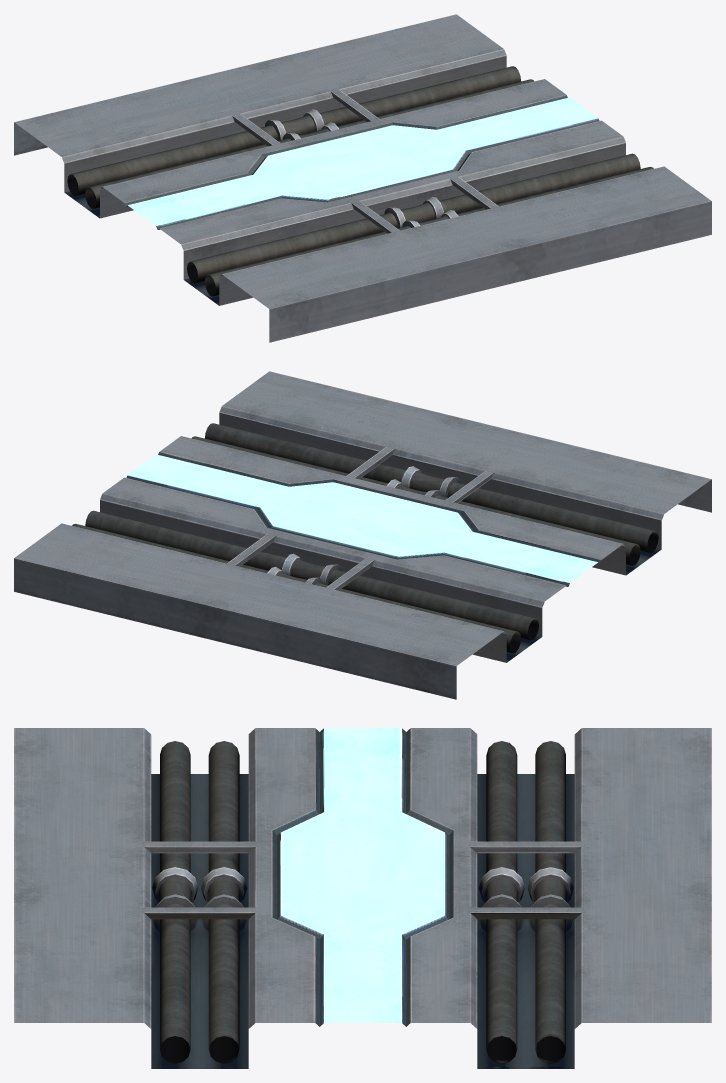
Rendered from DS_SM0005_Scifi_Room_FloorBase_04.fbx.
The picture shows the model from 3 angles, top to bottom: view 1: azimuth 30°, elevation 25°; view 2: azimuth 150°, elevation 25°; view 3: azimuth 270°, elevation 25°; orthographic projection. The views are drawn at different scales.
Parts seen in each view (by area): view 1: DS_SM0005_Scifi_Room_FloorBase_04_LP; view 2: DS_SM0005_Scifi_Room_FloorBase_04_LP; view 3: DS_SM0005_Scifi_Room_FloorBase_04_LP.
Part boxes in pixels (box(x1,y1,x2,y2)): DS_SM0005_Scifi_Room_FloorBase_04_LP: box(14, 14, 711, 342); DS_SM0005_Scifi_Room_FloorBase_04_LP: box(14, 371, 711, 699); DS_SM0005_Scifi_Room_FloorBase_04_LP: box(14, 728, 711, 1068).
Size of what is drawn, in the model's own units: 400 by 30.21 by 400.
